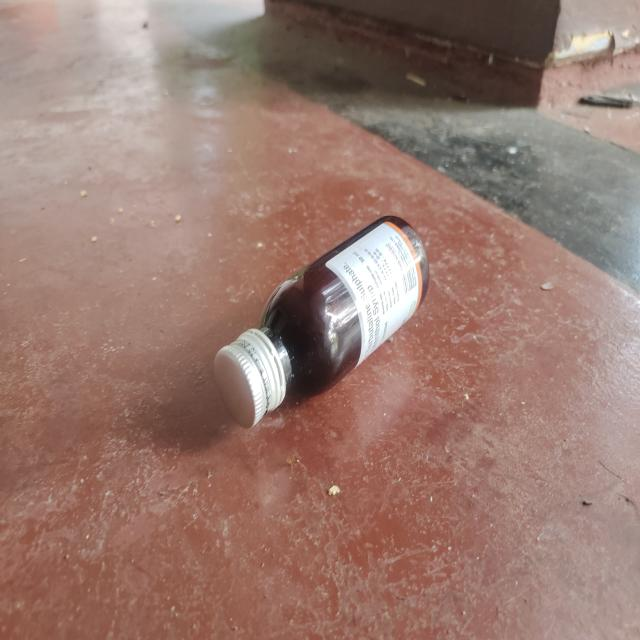plastic: (213, 216, 429, 428)
